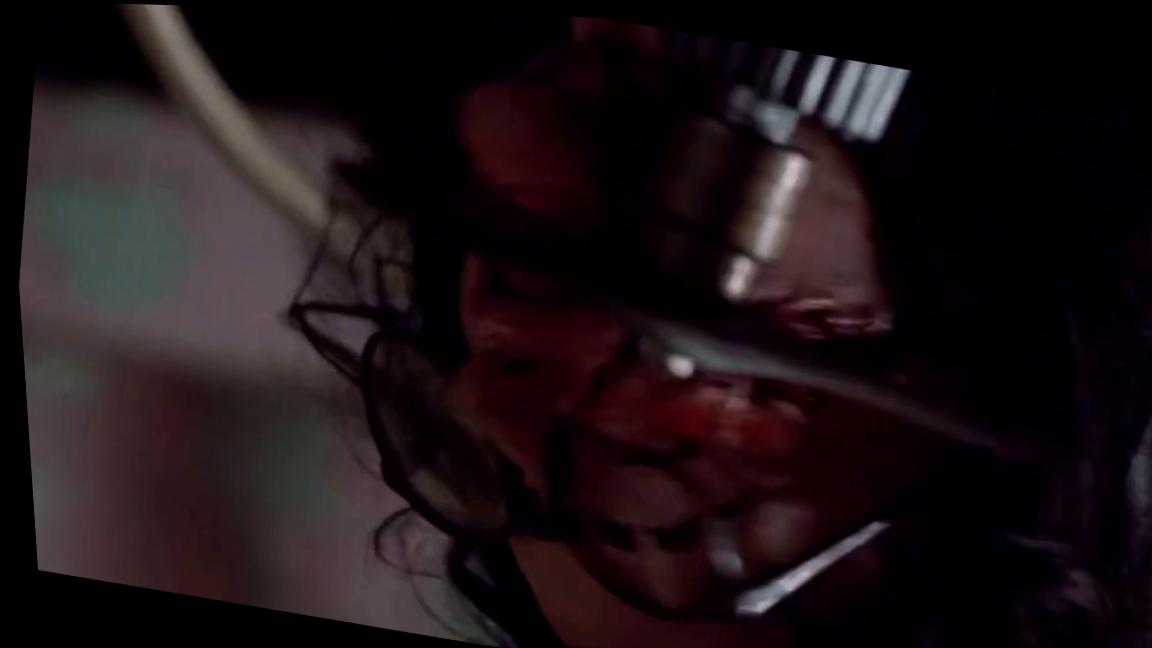Fire: (358, 258, 923, 631), (460, 18, 889, 331)
